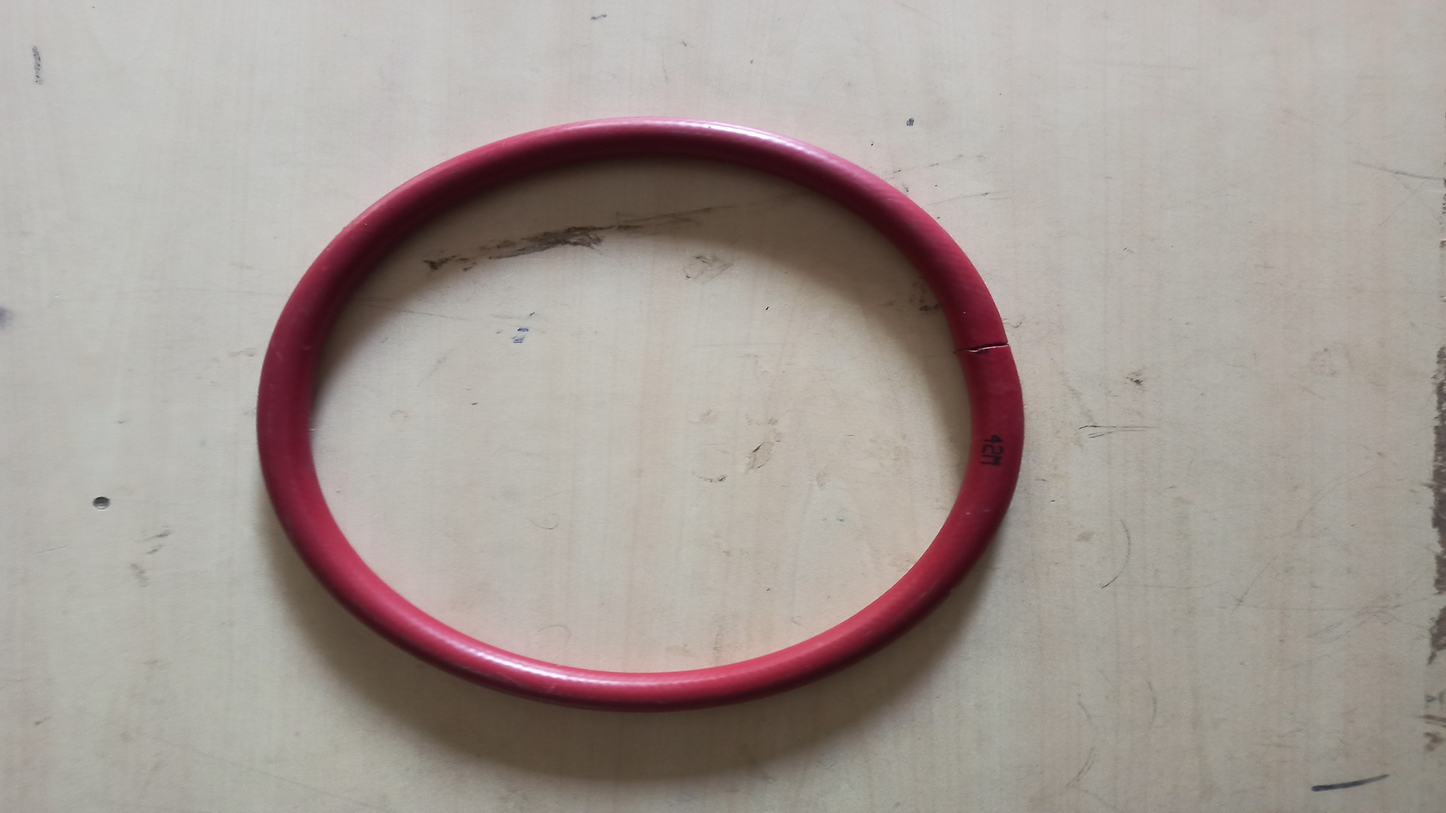Red ring: (258, 120, 1024, 705)
